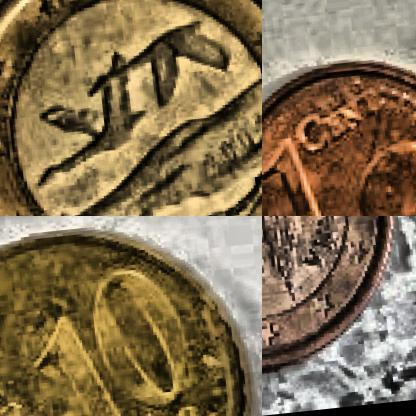coin: (0, 0, 261, 215), (0, 216, 261, 415), (262, 216, 415, 398), (262, 47, 415, 215)
